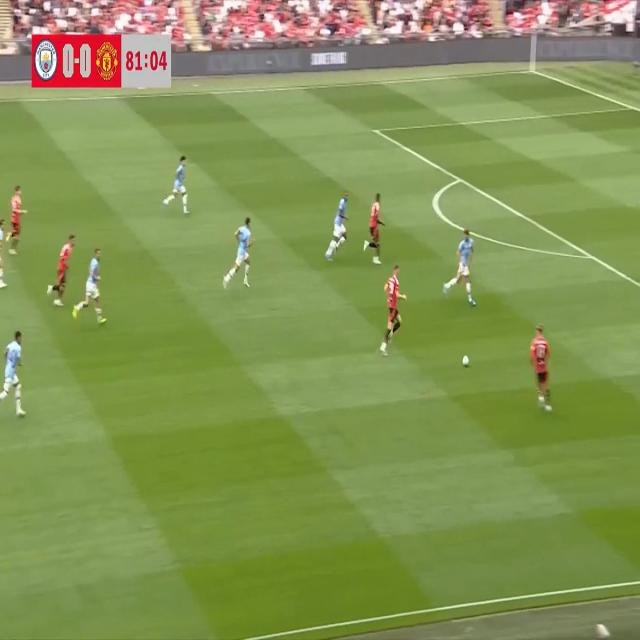ball: (461, 349, 471, 374)
players: (436, 221, 485, 311), (212, 208, 257, 302), (42, 214, 83, 312), (374, 254, 410, 360), (524, 314, 558, 417), (73, 248, 109, 338), (0, 318, 28, 431), (319, 178, 351, 264), (159, 143, 193, 217), (4, 174, 30, 265), (362, 192, 387, 274), (0, 206, 8, 308)
